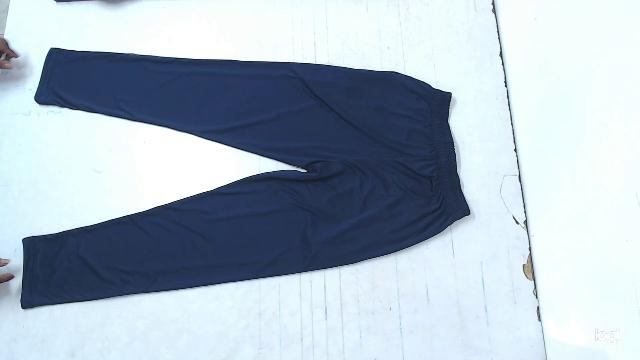new-garment: (21, 48, 469, 308)
